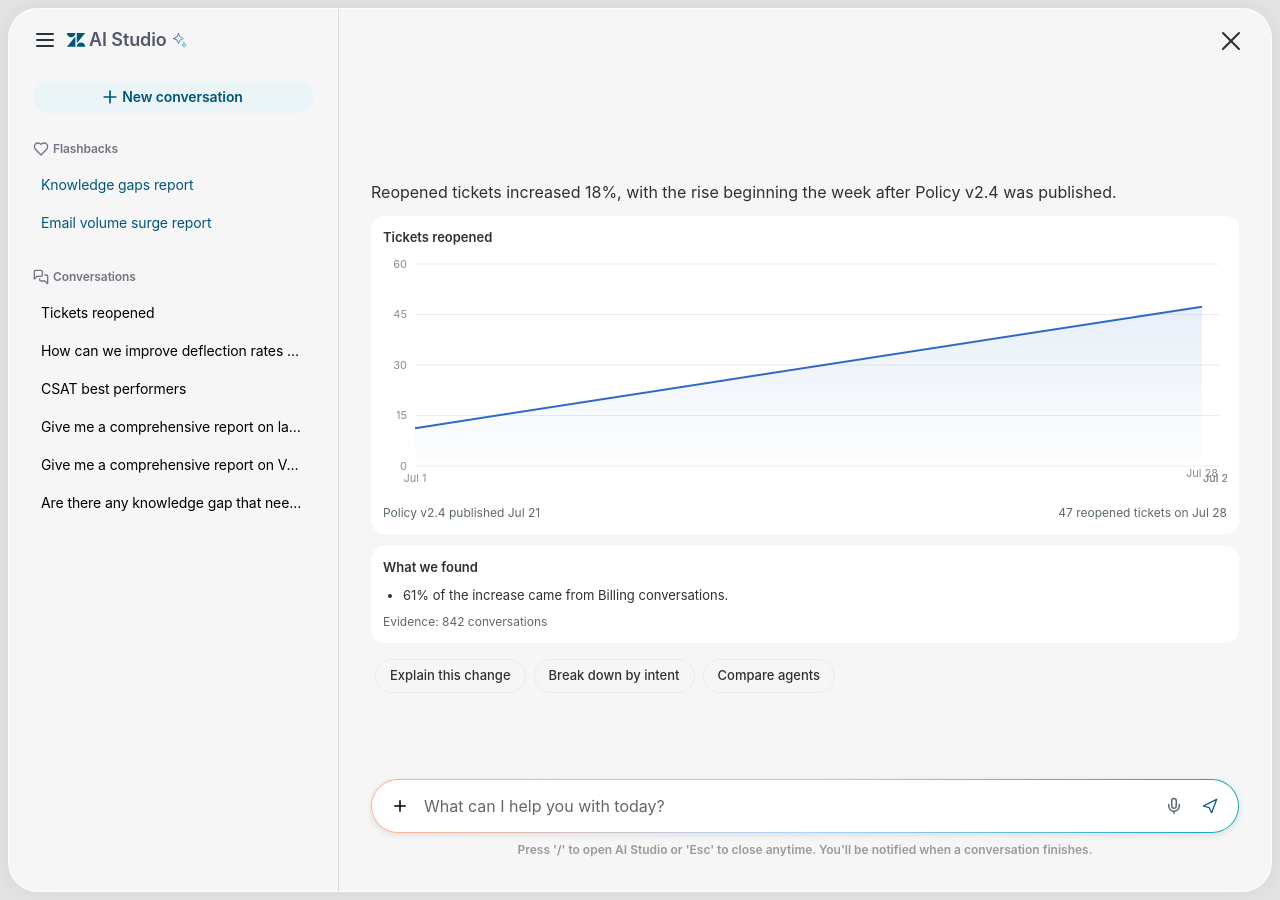
Test: AiStudioConversation › clicking a chip with a scripted response appends that reply and its attachment, and replaces the chip row
This screenshot has width=1280, height=900.
Click the button "Break down by intent": x=614, y=676 [534,659,695,692]
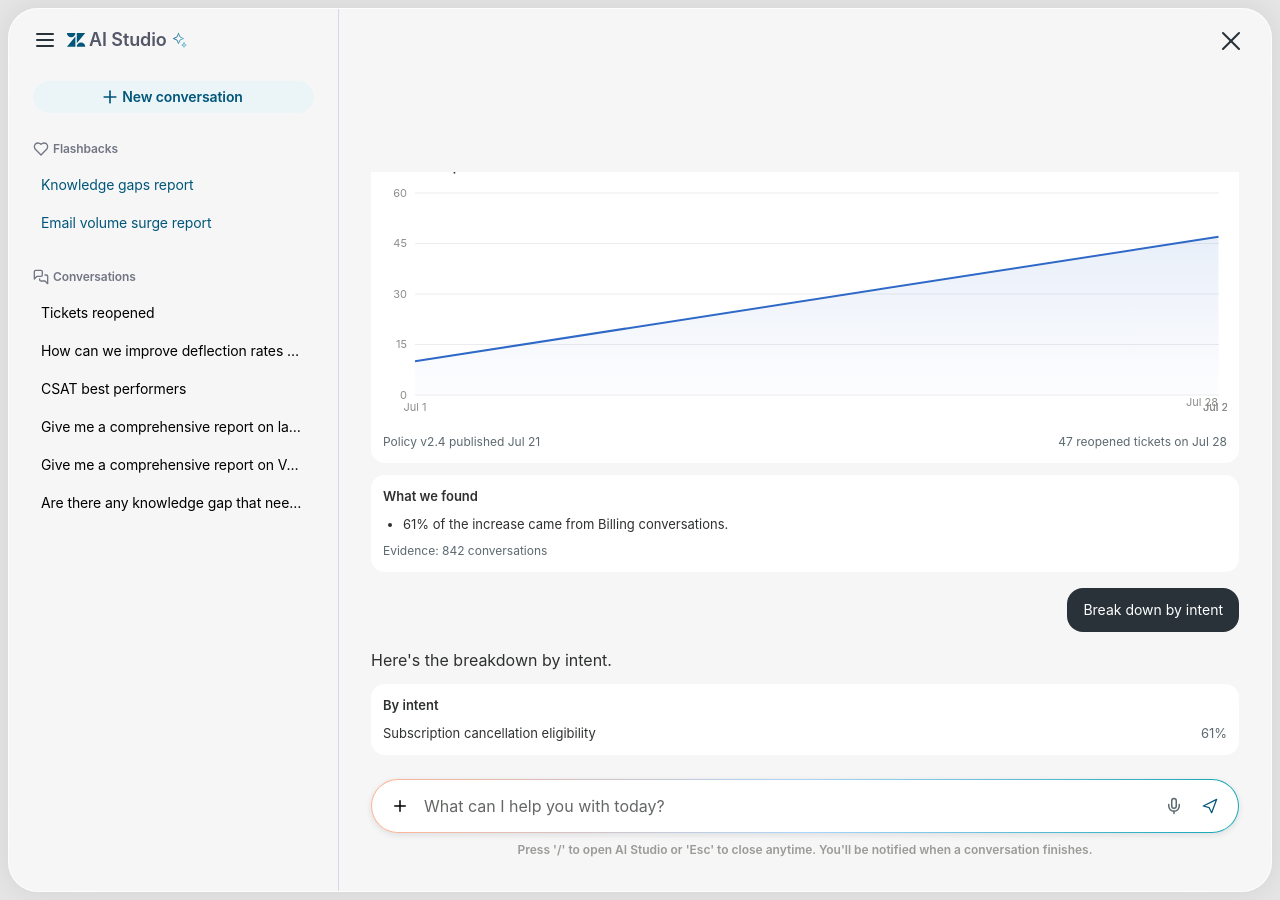
Result: the element with test id "ai-studio-conversation-body" shows "Here's the breakdown by intent." at [371,650,612,670]
Result: the element with test id "ai-studio-conversation-body" shows "Subscription cancellation eligibility" at [383,724,596,740]
Result: the button "Explain this change" is gone
